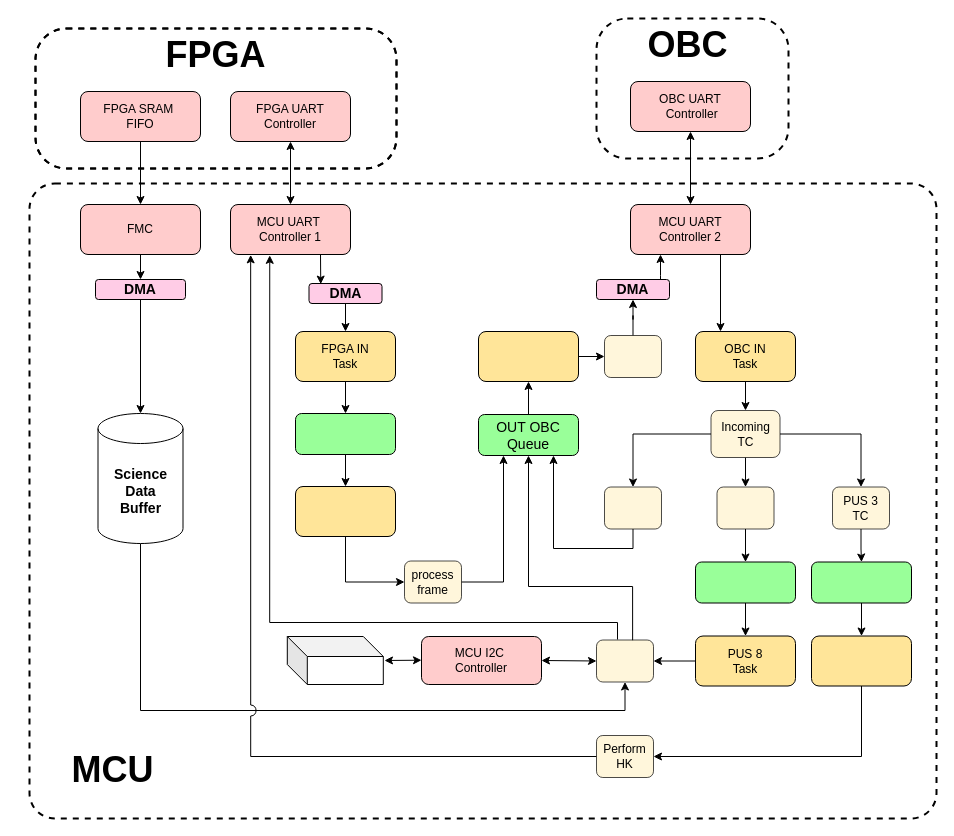
The diagram is 954 pixels wide and 836 high, and some of its shapes have lost their labels. The shapes that lost their labels are listed below. From the top down, each one's centre as x and y in pixels, then its label:
pixel 528 356: OBC OUT Task
pixel 633 356: Send TM
pixel 345 433: FPGA IN Queue
pixel 345 511: FPGA Dispatcher Task
pixel 633 507: PUS 17 TC
pixel 745 507: PUS 8 TC
pixel 745 582: TC PUS 8 Queue
pixel 861 582: TC PUS 3 Queue
pixel 334 660: FRAM
pixel 625 660: Perform function
pixel 861 660: PUS 3 Task
